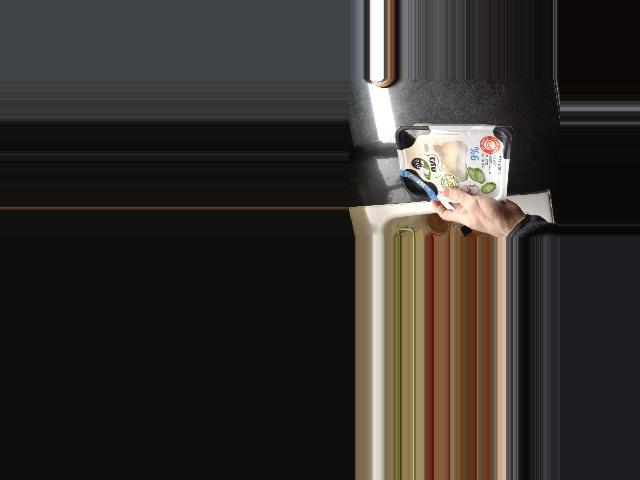cheese: (397, 125, 511, 210)
